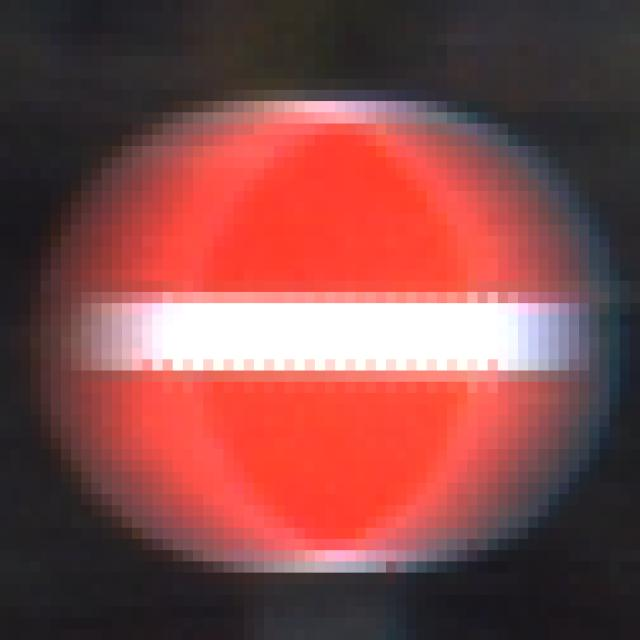No Entry: (62, 68, 590, 585)
